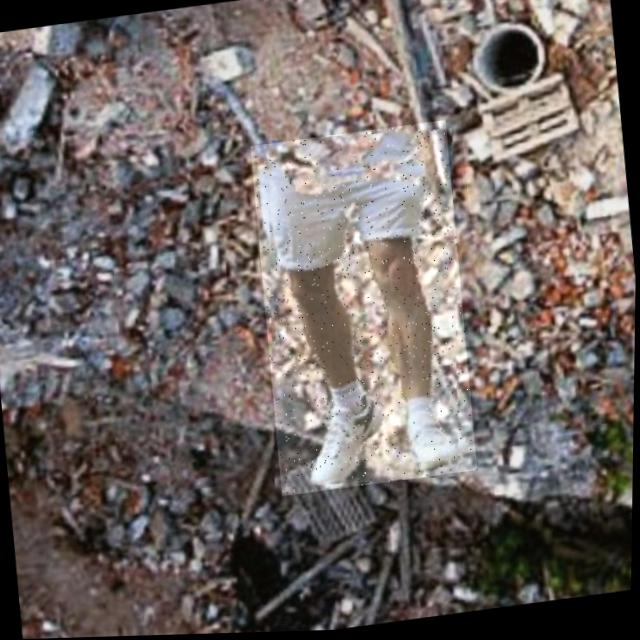Person in Rubble: (246, 121, 482, 499)
